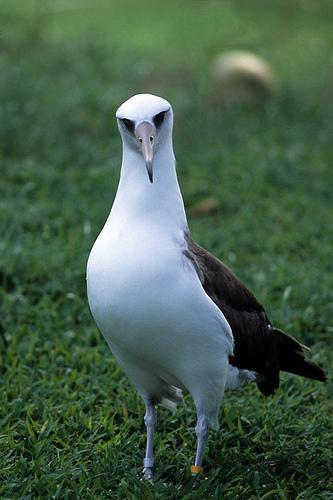002.Laysan_Albatross: (85, 91, 327, 482)
